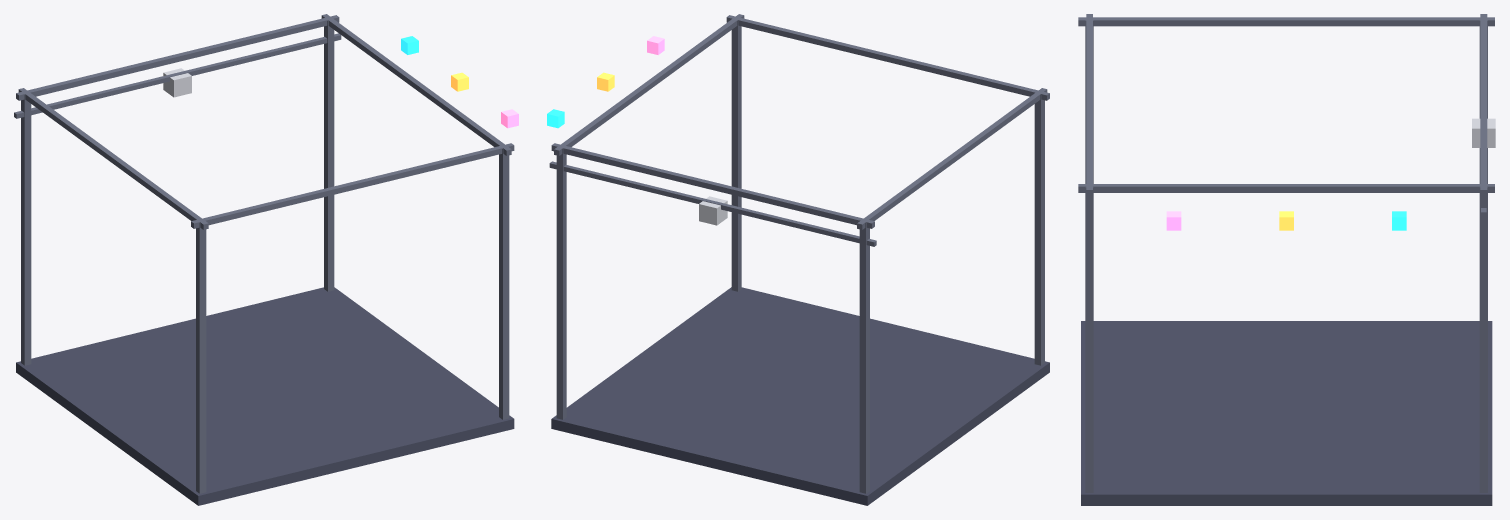
Rendered from voron-trident-350.glb.
3 views of the same model, side by side, from view 1: azimuth 30°, elevation 25°; view 2: azimuth 150°, elevation 25°; view 3: azimuth 270°, elevation 25° (orthographic). The views are drawn at different scales.
Visible parts, largest first — view 1: base, post.back.left, post.back.right, post.front.left, rail.front, rail.back, post.front.right, x.rail, rail.right, rail.left, carriage; view 2: base, post.back.left, post.front.left, post.front.right, rail.back, rail.front, post.back.right, x.rail, rail.right, rail.left, carriage; view 3: base, rail.left, rail.right, post.back.right, post.front.right, rail.front, rail.back, carriage, post.back.left.
Part boxes in pixels (left/top/right/bottom): base: left=16, top=287, right=514, bottom=505; post.back.left: left=196, top=222, right=206, bottom=493; post.back.right: left=499, top=148, right=509, bottom=419; post.front.left: left=21, top=94, right=31, bottom=365; rail.front: left=16, top=15, right=339, bottom=100; rail.back: left=191, top=143, right=514, bottom=228; post.front.right: left=324, top=20, right=334, bottom=291; x.rail: left=14, top=33, right=341, bottom=118; rail.right: left=321, top=14, right=511, bottom=155; rail.left: left=18, top=88, right=208, bottom=229; carriage: left=163, top=68, right=191, bottom=97; base: left=551, top=287, right=1049, bottom=505; post.back.left: left=1034, top=94, right=1044, bottom=365; post.front.left: left=859, top=222, right=869, bottom=493; post.front.right: left=556, top=148, right=566, bottom=419; rail.back: left=726, top=15, right=1049, bottom=100; rail.front: left=551, top=143, right=874, bottom=228; post.back.right: left=731, top=20, right=741, bottom=291; x.rail: left=549, top=161, right=876, bottom=246; rail.right: left=554, top=14, right=744, bottom=155; rail.left: left=857, top=88, right=1047, bottom=229; carriage: left=699, top=196, right=727, bottom=225; base: left=1081, top=321, right=1492, bottom=505; rail.left: left=1078, top=17, right=1494, bottom=26; rail.right: left=1078, top=184, right=1494, bottom=192; post.back.right: left=1085, top=187, right=1093, bottom=492; post.front.right: left=1479, top=187, right=1487, bottom=492; rail.front: left=1480, top=14, right=1487, bottom=196; rail.back: left=1086, top=14, right=1092, bottom=196; carriage: left=1472, top=118, right=1495, bottom=147; post.back.left: left=1085, top=20, right=1093, bottom=183.
Size of the model in its own units: 8.38 by 6.21 by 7.41.
